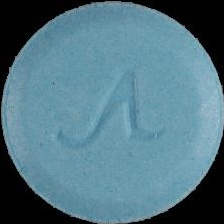54868-3855: (0, 0, 224, 224)
